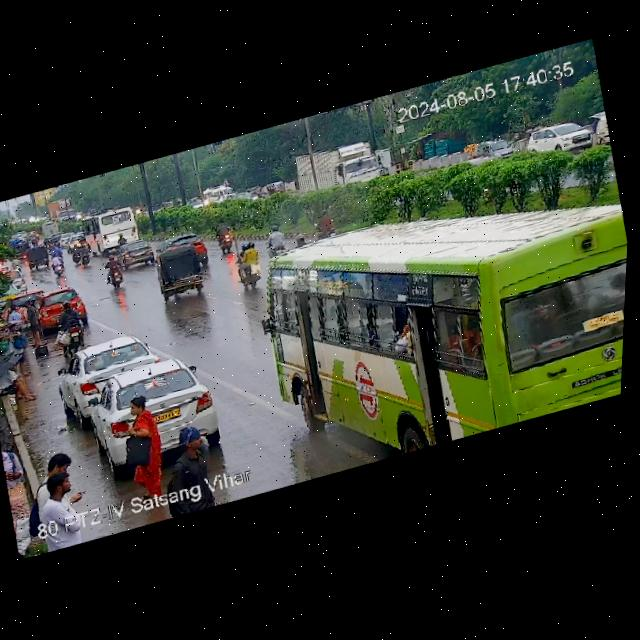bus: (241, 148, 632, 448), (287, 133, 389, 202), (83, 205, 139, 252), (41, 195, 74, 231), (46, 252, 69, 281), (265, 181, 280, 199)
car: (88, 346, 220, 452), (56, 327, 158, 408), (150, 238, 214, 303), (32, 281, 90, 331), (527, 115, 590, 157), (470, 131, 514, 163), (158, 229, 205, 255), (115, 237, 153, 268)
motorcycle: (230, 237, 266, 292), (54, 297, 91, 350), (97, 251, 131, 291), (212, 220, 240, 256), (4, 288, 41, 312), (25, 240, 53, 270)
person: (107, 389, 174, 505), (26, 456, 96, 554), (166, 417, 228, 513), (0, 352, 48, 413), (21, 300, 45, 348)
truck: (201, 181, 235, 208)
